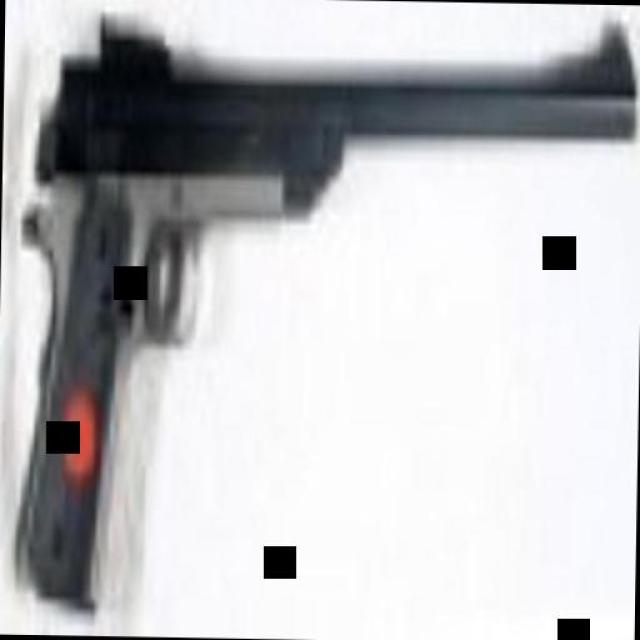gun: (5, 9, 635, 622)
